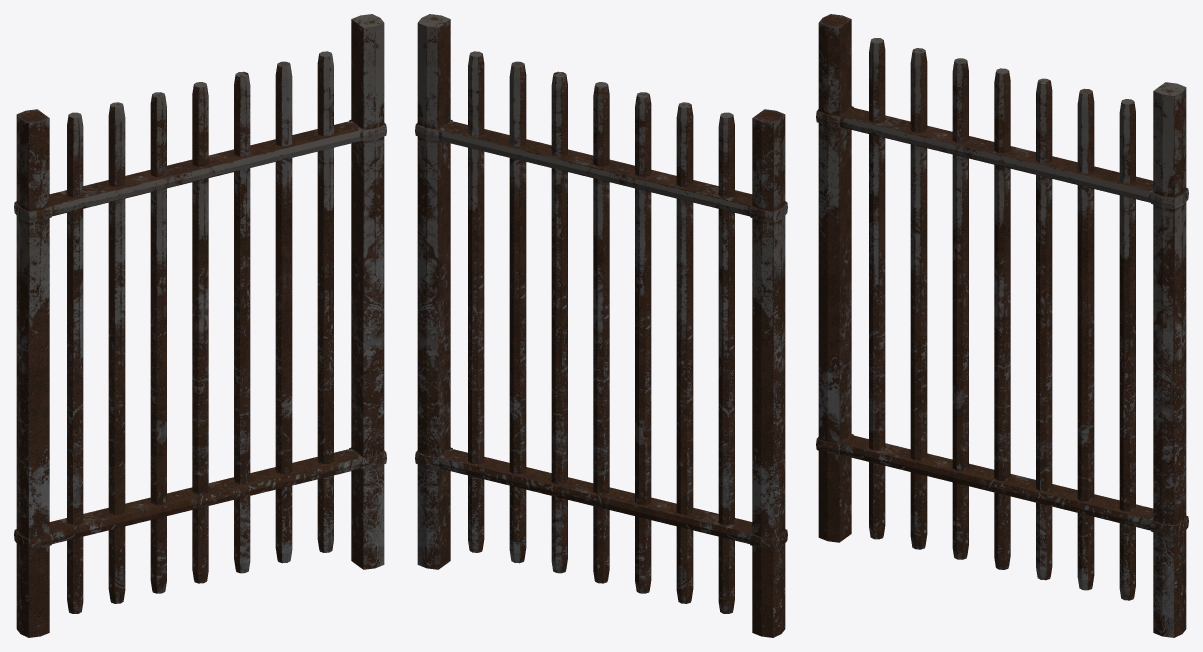
The model's file is gatedDoor.fbx.
The picture shows the model from 3 angles, left to right: view 1: azimuth 30°, elevation 25°; view 2: azimuth 150°, elevation 25°; view 3: azimuth 330°, elevation 25°; orthographic projection.
Parts seen in each view (by area): view 1: gatedDoor; view 2: gatedDoor; view 3: gatedDoor.
Part boxes in pixels (box(x1,y1,x2,y2)): gatedDoor: box(14, 14, 386, 637); gatedDoor: box(415, 14, 787, 637); gatedDoor: box(816, 14, 1188, 637).
Size of the model in its own units: 347 by 496 by 28.1.
